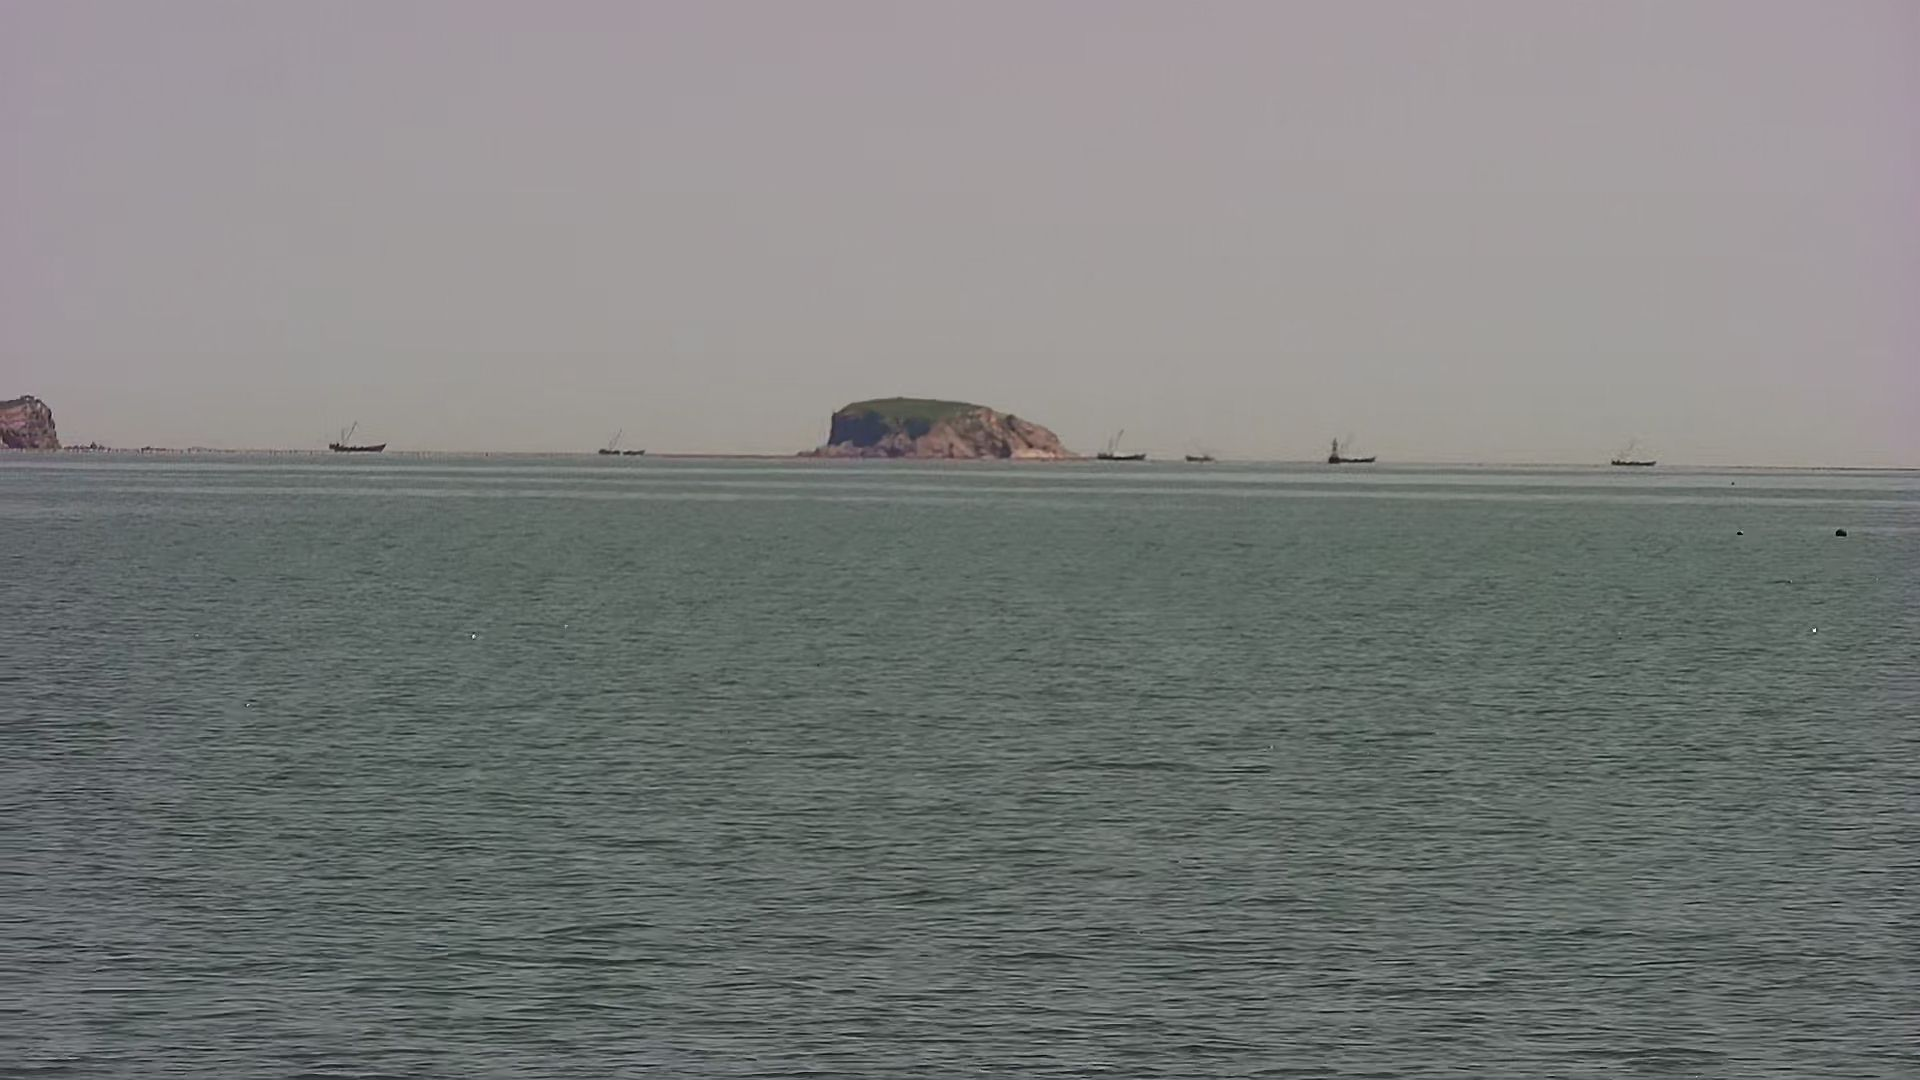rock: (810, 392, 1085, 463)
